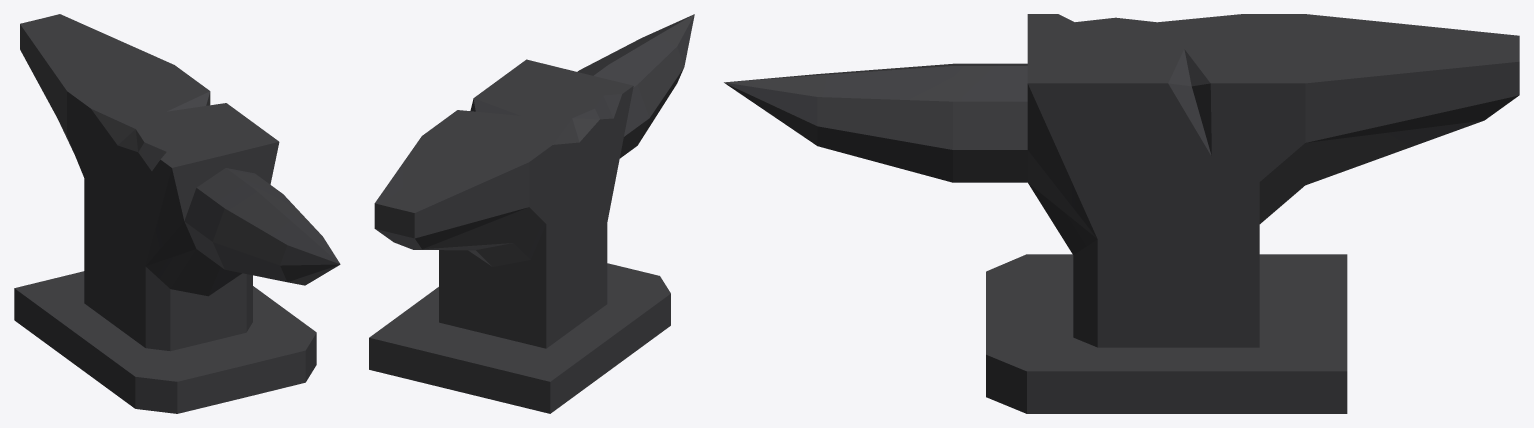
The model's file is Yunque.glb.
The picture shows the model from 3 angles, left to right: view 1: azimuth 30°, elevation 25°; view 2: azimuth 150°, elevation 25°; view 3: azimuth 270°, elevation 25°; orthographic projection. The views are drawn at different scales.
Parts seen in each view (by area): view 1: SM_Prop_Anvil_01_1; view 2: SM_Prop_Anvil_01_1; view 3: SM_Prop_Anvil_01_1.
Part boxes in pixels (x1,y1,x2,y2): SM_Prop_Anvil_01_1: [14, 14, 340, 413]; SM_Prop_Anvil_01_1: [369, 14, 694, 413]; SM_Prop_Anvil_01_1: [724, 14, 1519, 413].
Bounding box in the file's own units: 0.3353 × 0.4094 × 0.9621.
1 material, 1 textured.
